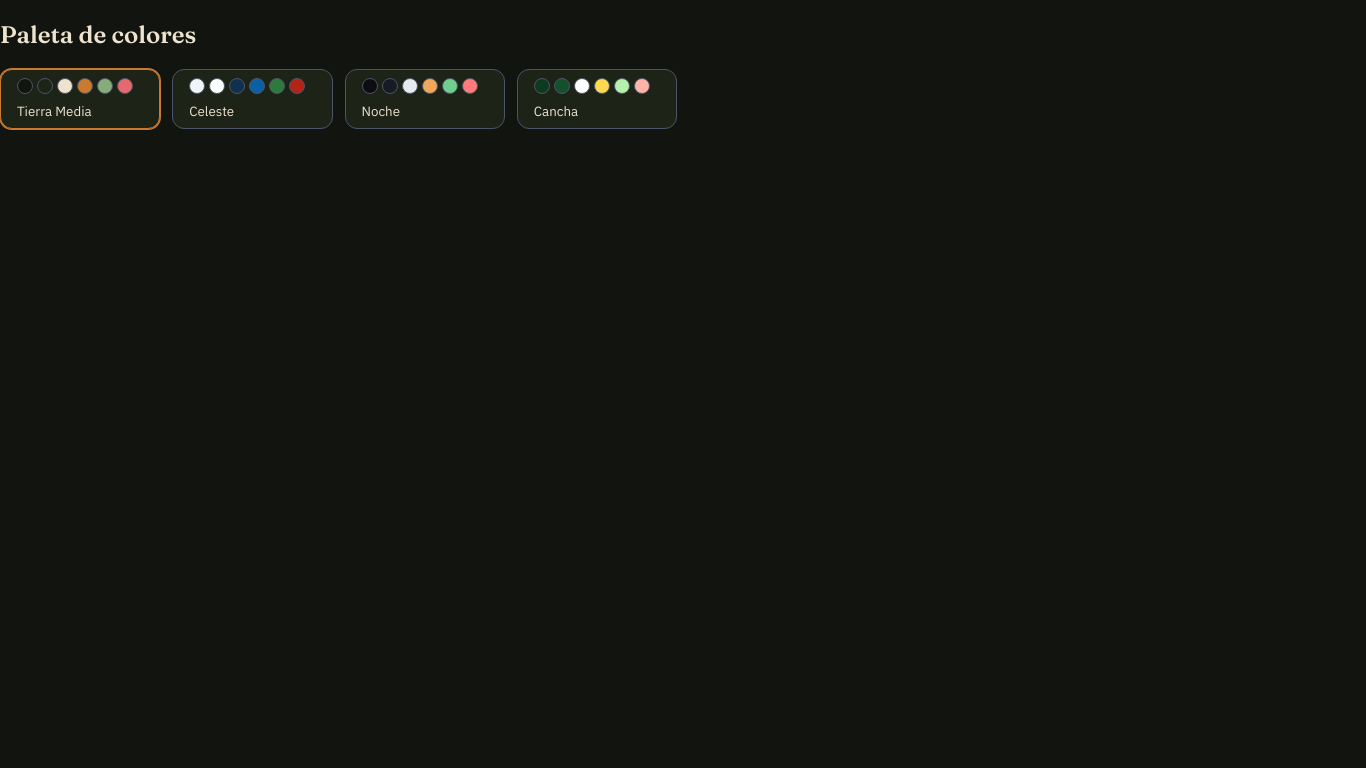
Scenario: PaletteSelector › si no se pudo guardar en el perfil avisa, pero la paleta queda aplicada
Step 1. Click the button "Cancha" → click(597, 99), box [517,69,677,129]
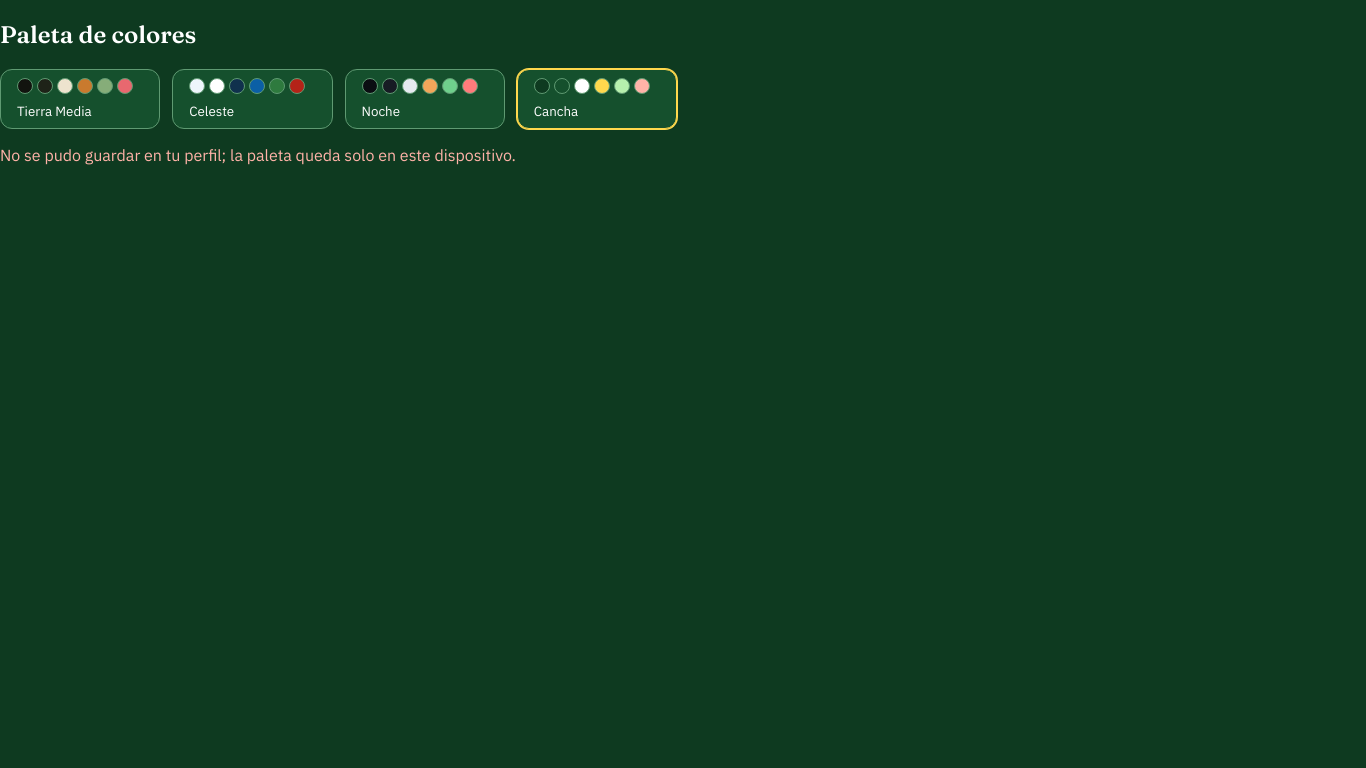
Result: the message shows "No se pudo guardar" at [0,145,516,165]
